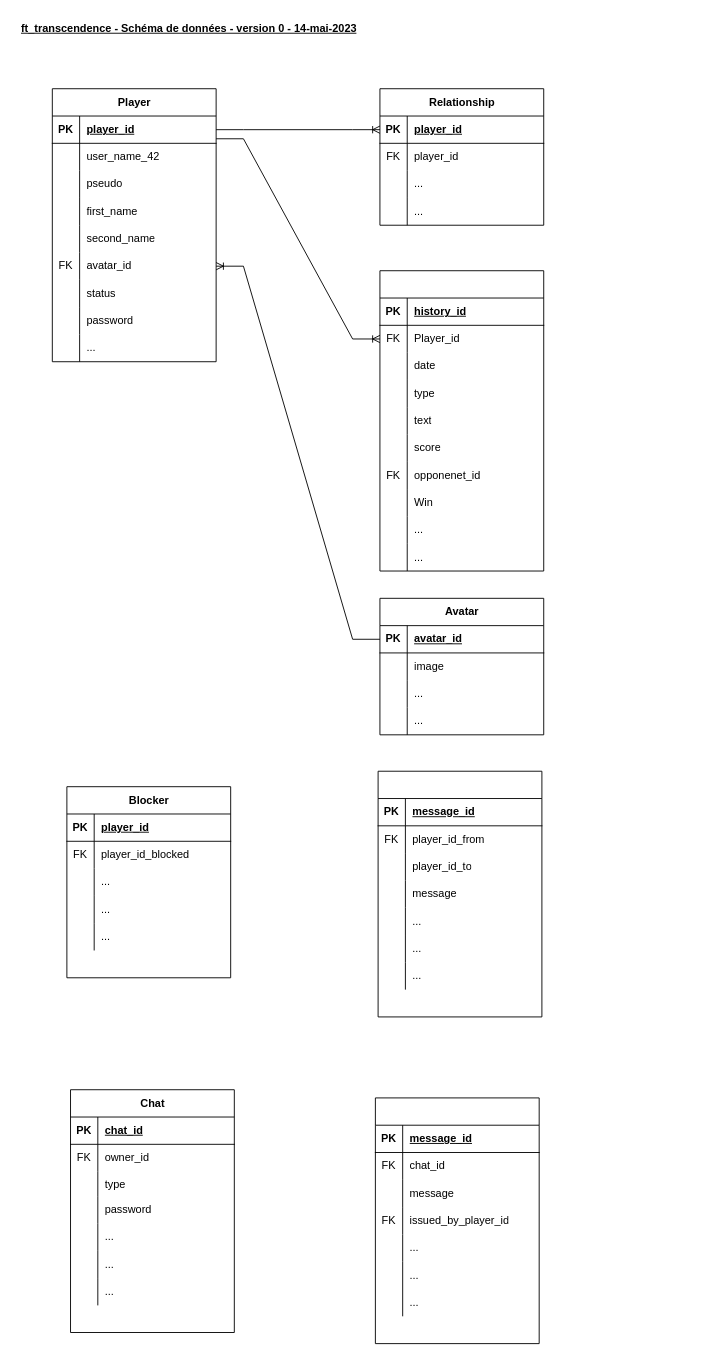
This 723x1360 diagram has some shape labels left out. Here are the shapes that lost their labels. From the top down, the box of each, then its label:
(379, 270, 544, 571): Match_history
(377, 770, 542, 1017): Private_message
(374, 1097, 539, 1344): Chat_message
